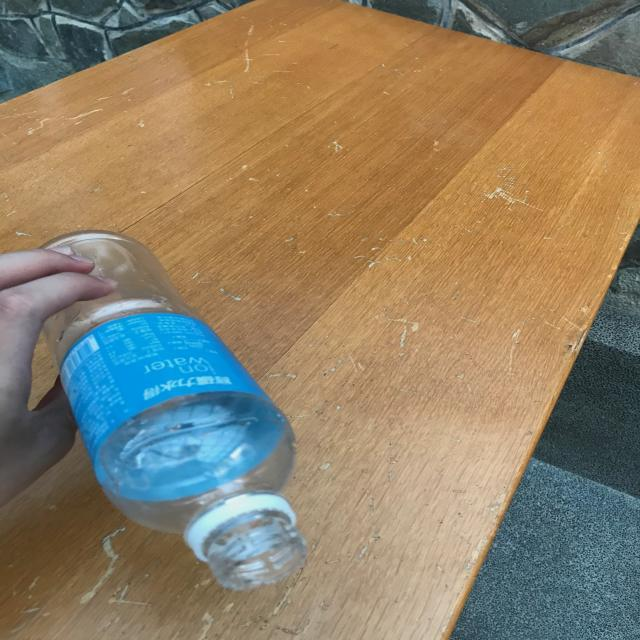plastic_bottle: (37, 230, 307, 589)
